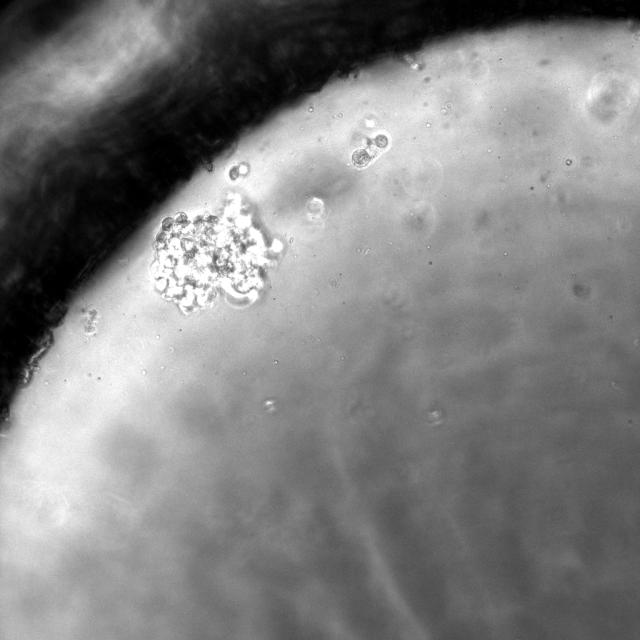organoid: (151, 194, 282, 314), (351, 133, 389, 170), (228, 162, 249, 182)
